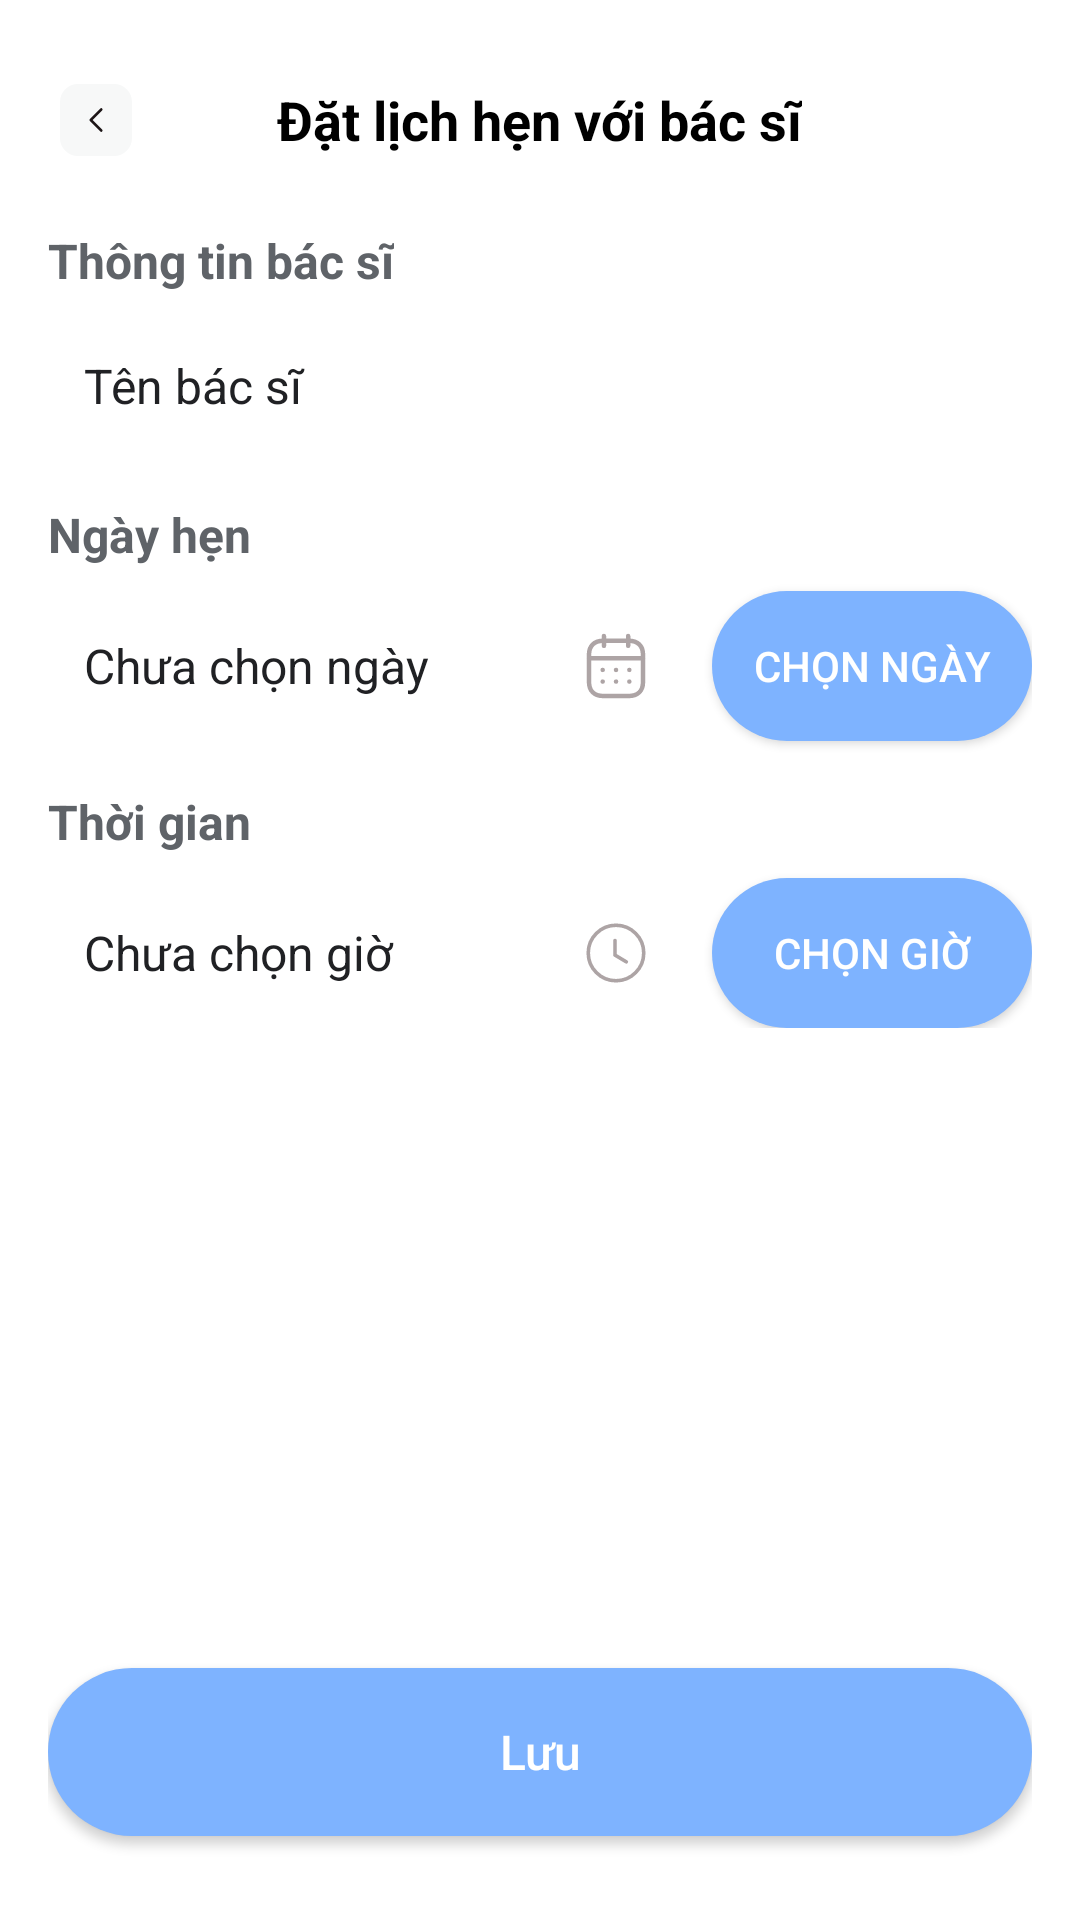

Point at icon controls on the screen. Image size 1080*1920, points as (x=x, y=y).
Back: (x=96, y=120)
